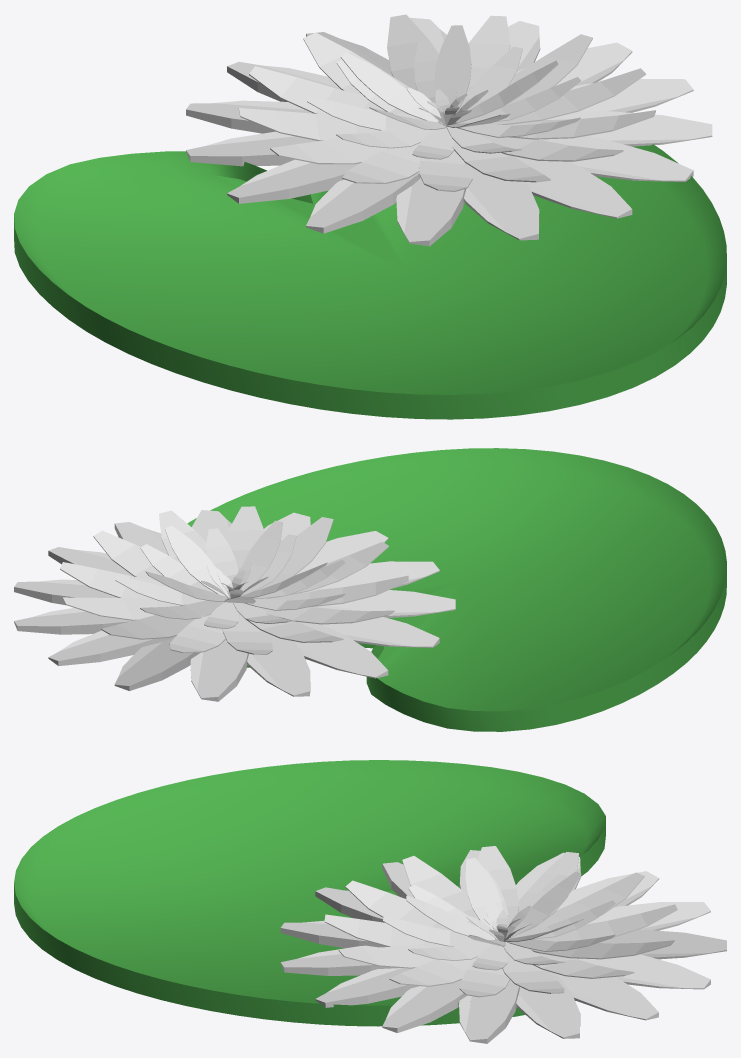
File: Blume.fbx
The picture shows the model from 3 angles, top to bottom: view 1: azimuth 30°, elevation 25°; view 2: azimuth 150°, elevation 25°; view 3: azimuth 270°, elevation 25°; orthographic projection. The views are drawn at different scales.
Visible parts, largest first — view 1: Extrudieren, Würfel_0_instance_7, Würfel_0_instance_8, Würfel_0_instance_10, Würfel_0_instance_6, Würfel_0_instance_11, Würfel_0_instance_9, Würfel_0_instance_5, Würfel_0_instance_12, Würfel_0_instance_24, Würfel_0_instance_25, Würfel_0_instance_17 (+28 smaller); view 2: Extrudieren, Würfel_0_instance_14, Würfel_0_instance_12, Würfel_0_instance_13, Würfel_0_instance_11, Würfel_0, Würfel_0_instance, Würfel_0_instance_10, Würfel_0_instance_2, Würfel_0_instance_9, Würfel_0_instance_15, Würfel_0_instance_20 (+30 smaller); view 3: Extrudieren, Würfel_0_instance_2, Würfel_0_instance_5, Würfel_0_instance, Würfel_0_instance_4, Würfel_0_instance_3, Würfel_0_instance_6, Würfel_0, Würfel_0_instance_7, Würfel_0_instance_21, Würfel_0_instance_26, Würfel_0_instance_22 (+26 smaller).
Part boxes in pixels (box(x1,y1,x2,y2)): Extrudieren: box(14, 144, 726, 419); Würfel_0_instance_7: box(514, 156, 632, 218); Würfel_0_instance_8: box(463, 153, 539, 240); Würfel_0_instance_10: box(306, 171, 420, 233); Würfel_0_instance_6: box(539, 136, 693, 181); Würfel_0_instance_11: box(227, 159, 359, 203); Würfel_0_instance_9: box(396, 162, 467, 246); Würfel_0_instance_5: box(544, 111, 712, 146); Würfel_0_instance_12: box(186, 131, 318, 166); Würfel_0_instance_24: box(238, 108, 379, 140); Würfel_0_instance_25: box(249, 66, 385, 114); Würfel_0_instance_17: box(490, 68, 645, 124); Extrudieren: box(187, 448, 726, 731); Würfel_0_instance_14: box(190, 639, 248, 701); Würfel_0_instance_12: box(294, 622, 388, 678); Würfel_0_instance_13: box(247, 633, 310, 696); Würfel_0_instance_11: box(311, 605, 439, 647); Würfel_0: box(114, 637, 200, 690); Würfel_0_instance: box(48, 630, 175, 665); Würfel_0_instance_10: box(303, 588, 455, 617); Würfel_0_instance_2: box(14, 608, 132, 634); Würfel_0_instance_9: box(316, 561, 439, 589); Würfel_0_instance_15: box(62, 597, 180, 620); Würfel_0_instance_20: box(259, 517, 333, 589); Extrudieren: box(14, 760, 605, 1026); Würfel_0_instance_2: box(555, 957, 658, 1020); Würfel_0_instance_5: box(382, 980, 467, 1032); Würfel_0_instance: box(574, 954, 710, 989); Würfel_0_instance_4: box(459, 979, 519, 1043); Würfel_0_instance_3: box(516, 970, 580, 1038); Würfel_0_instance_6: box(315, 968, 419, 1007); Würfel_0: box(599, 929, 726, 959); Würfel_0_instance_7: box(280, 945, 399, 975); Würfel_0_instance_21: box(345, 880, 450, 930); Würfel_0_instance_26: box(535, 904, 677, 942); Würfel_0_instance_22: box(402, 856, 478, 919).
Size of the model in its own units: 436 by 51.23 by 466.
